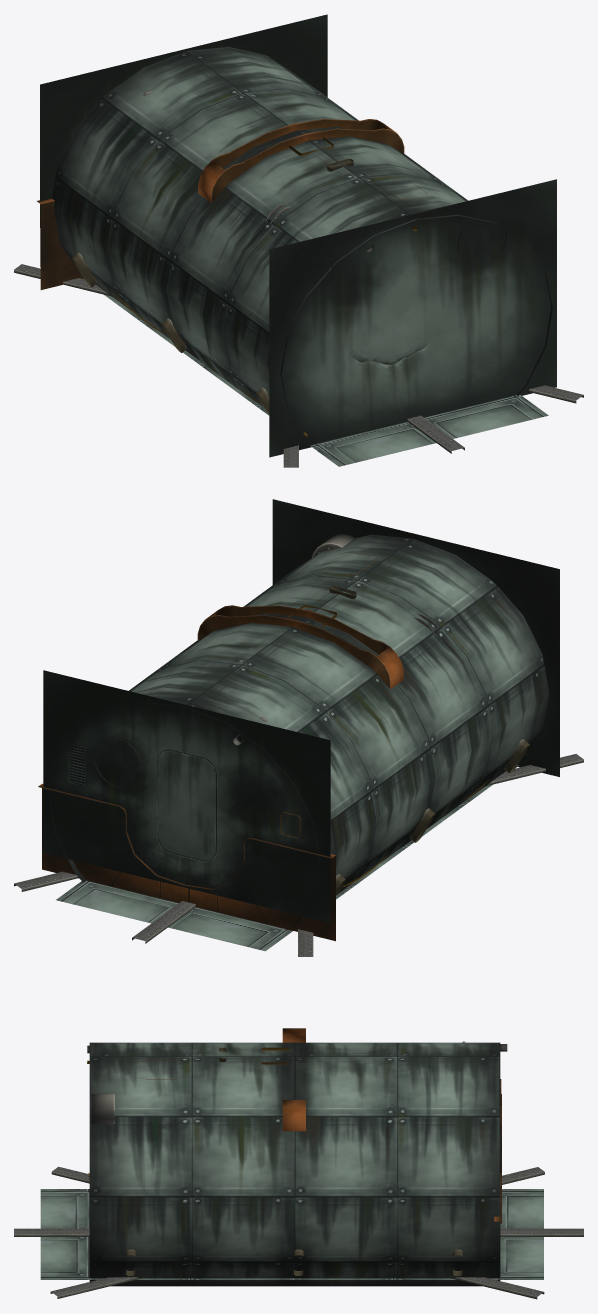
Rendered from Nautilus_Prison_v5.fbx.
3 renders of one model, top to bottom at view 1: azimuth 30°, elevation 25°; view 2: azimuth 150°, elevation 25°; view 3: azimuth 270°, elevation 25°, orthographic. The views are drawn at different scales.
Visible parts, largest first — view 1: pCylinder1, pPlane2, pasted__pPlane2, pPlane1, polySurface3, polySurface7, pCube4, polySurface12; view 2: pCylinder1, pasted__pPlane2, pPlane2, pCube4, pPlane1, polySurface3, polySurface7, polySurface12, pasted__polySurface2; view 3: pCylinder1, pPlane1, polySurface7, polySurface3, pasted__polySurface2.
Part boxes in pixels (x1,y1,x2,y2): pCylinder1: (52,46,552,440); pPlane2: (269,179,556,457); pasted__pPlane2: (40,14,327,266); pPlane1: (104,294,548,466); polySurface3: (198,119,404,202); polySurface7: (14,264,583,467); pCube4: (37,198,83,289); polySurface12: (71,252,269,414); pCylinder1: (49,534,549,930); pasted__pPlane2: (43,670,330,922); pPlane2: (272,499,559,776); pCube4: (38,783,335,941); pPlane1: (56,765,518,951); polySurface3: (197,605,403,689); polySurface7: (14,754,583,956); polySurface12: (336,739,530,895); pasted__polySurface2: (94,534,354,787); pCylinder1: (89,1042,500,1286); pPlane1: (40,1189,543,1279); polySurface7: (14,1166,583,1299); polySurface3: (282,1028,305,1131); pasted__polySurface2: (91,1094,501,1172).
Bounding box in the file's own units: 304 × 220 × 563.
